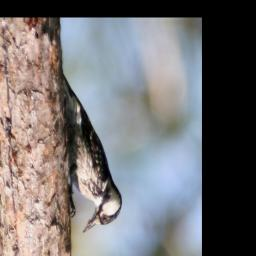Woodpecker: (61, 65, 124, 235)
